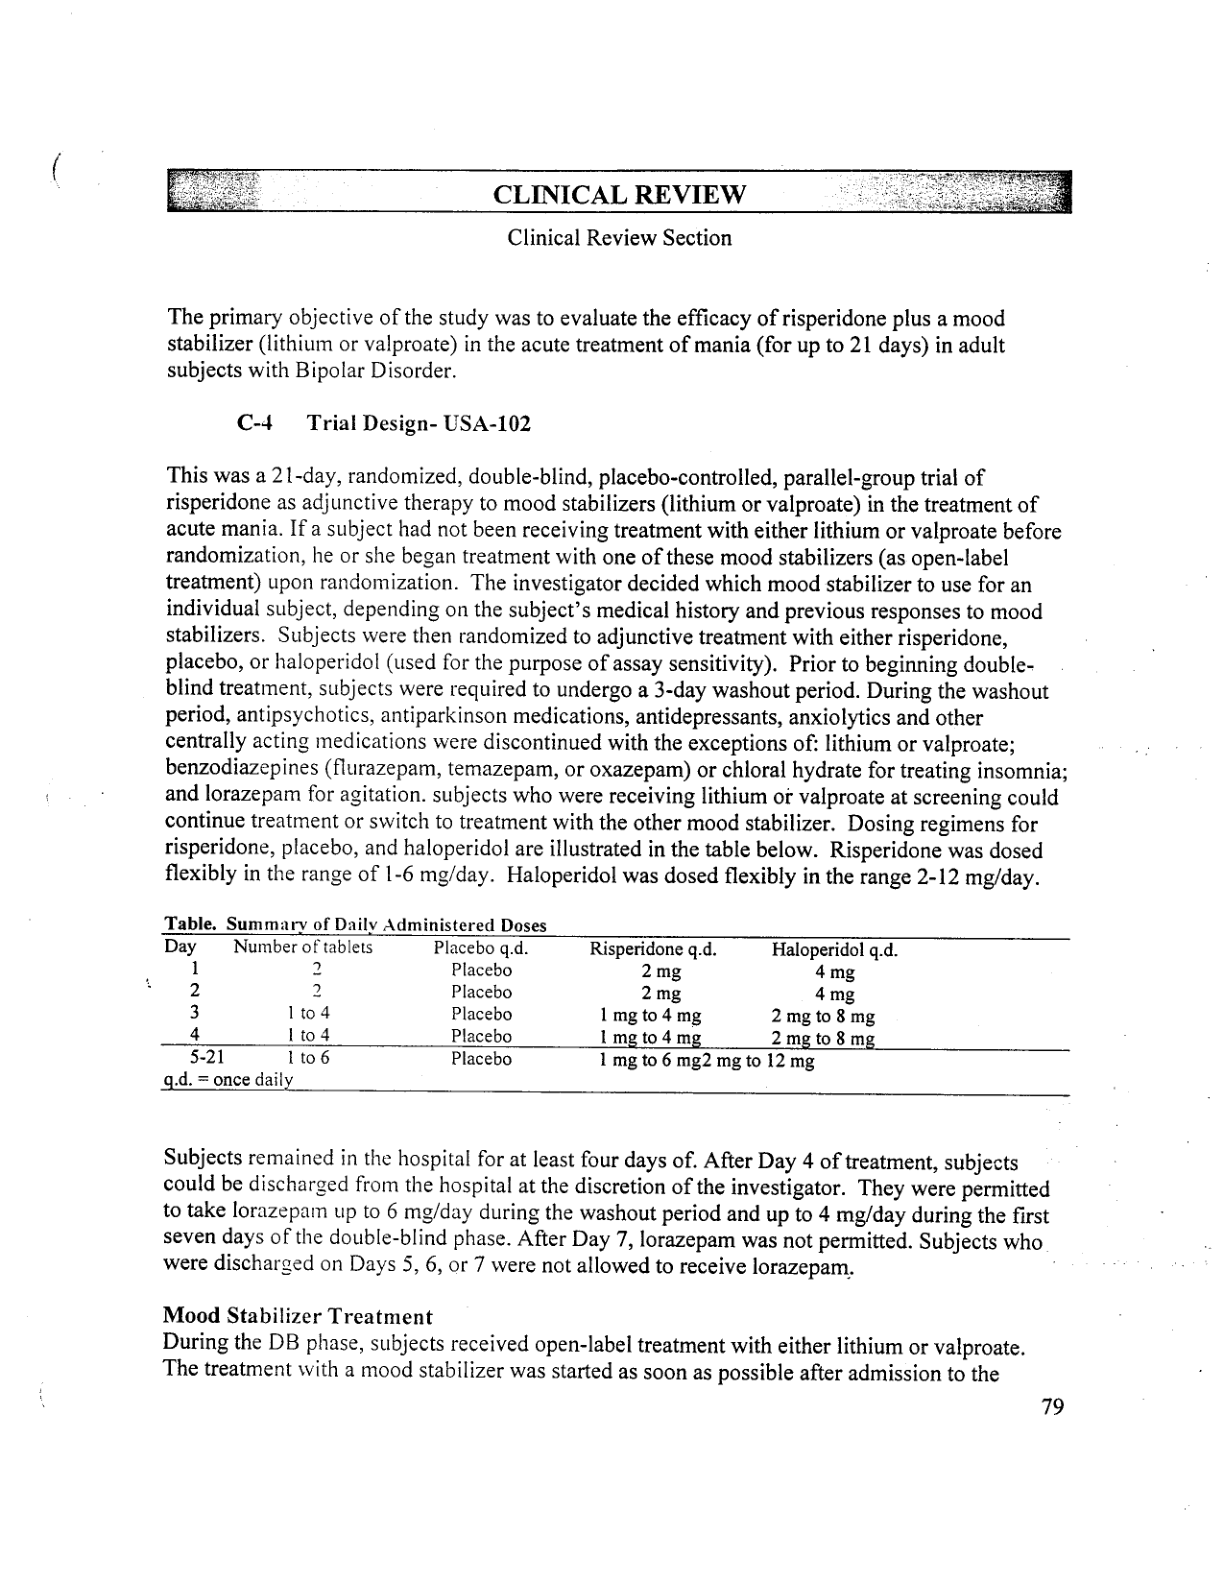partial_lined: (158, 931, 1076, 1099)
